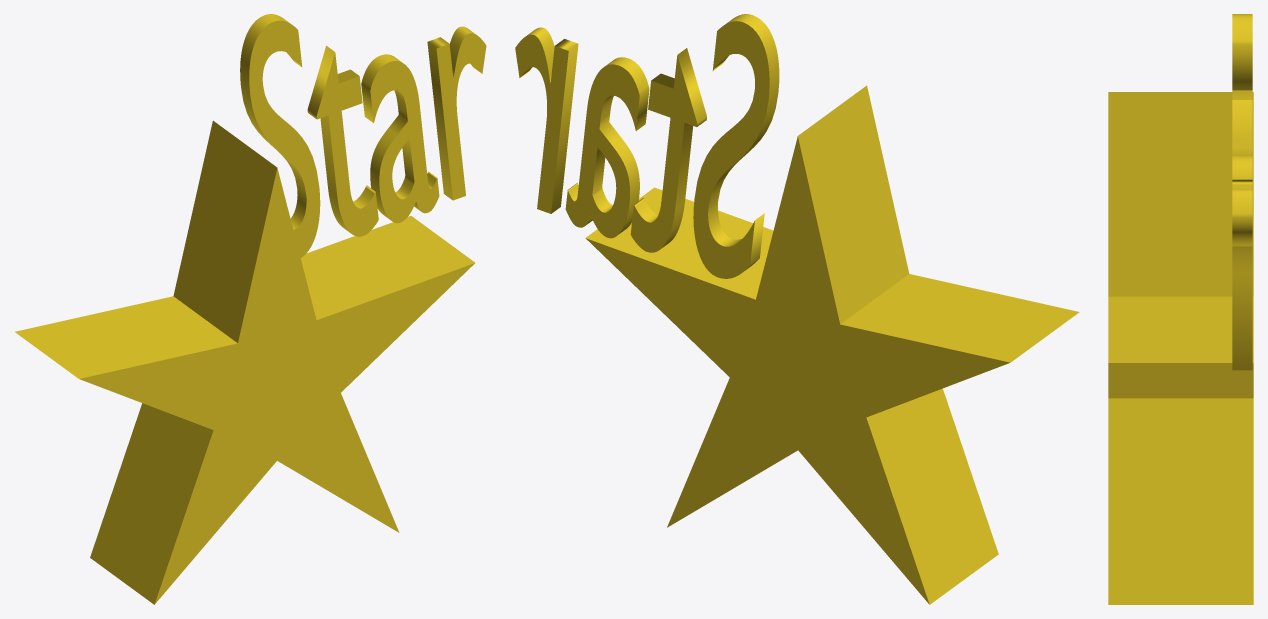
Rendered from startext.gltf.
The picture shows the model from 3 angles, left to right: view 1: azimuth 30°, elevation 25°; view 2: azimuth 150°, elevation 25°; view 3: azimuth 270°, elevation 25°; orthographic projection. The views are drawn at different scales.
Visible parts, largest first — view 1: Circle, Text; view 2: Circle, Text; view 3: Circle, Text.
Part boxes in pixels (left/top/right/bottom): Circle: left=15, top=120, right=475, bottom=604; Text: left=240, top=14, right=486, bottom=257; Circle: left=585, top=85, right=1079, bottom=604; Text: left=515, top=14, right=779, bottom=278; Circle: left=1108, top=92, right=1253, bottom=604; Text: left=1232, top=14, right=1252, bottom=370.
Bounding box in the file's own units: 59.29 × 61.32 × 14.32.
